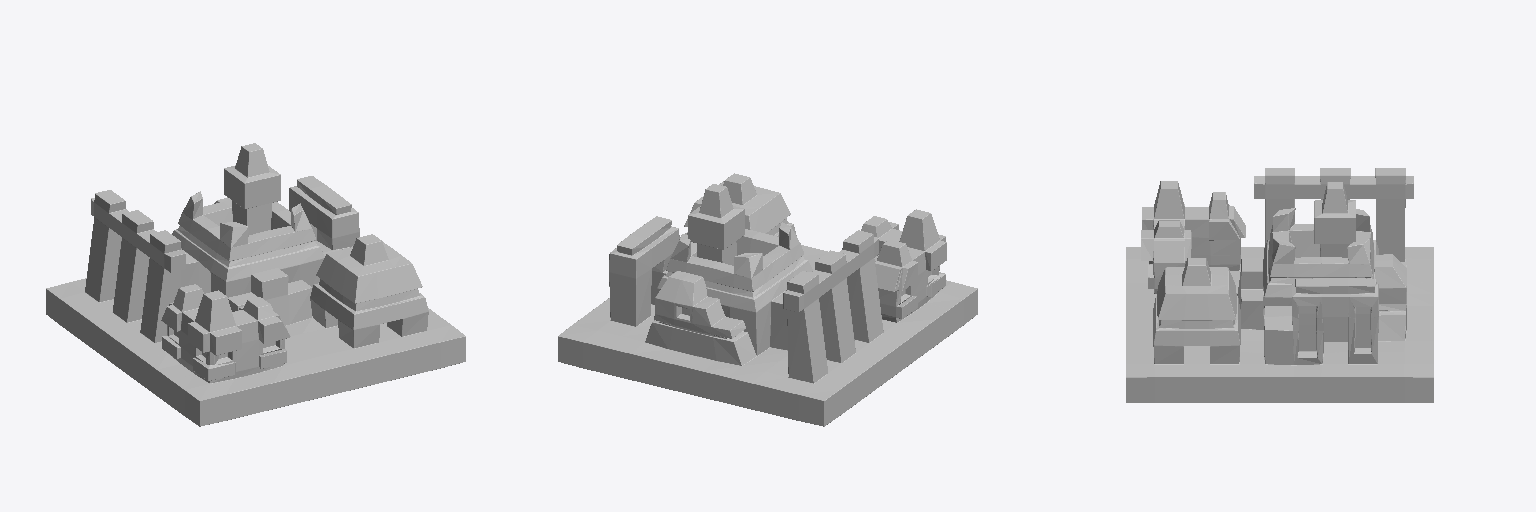
Rendered from base_city_structure.obj.
3 views of the same model, side by side, from view 1: azimuth 30°, elevation 25°; view 2: azimuth 150°, elevation 25°; view 3: azimuth 270°, elevation 25° (orthographic).
Parts seen in each view (by area): view 1: Plane; view 2: Plane; view 3: Plane.
Boxes of the visible parts, x1,y1,x2,y2 form: Plane: [46, 143, 465, 426]; Plane: [558, 173, 977, 426]; Plane: [1126, 168, 1433, 402].
Size of the model in its own units: 2.03 by 1.19 by 2.03.